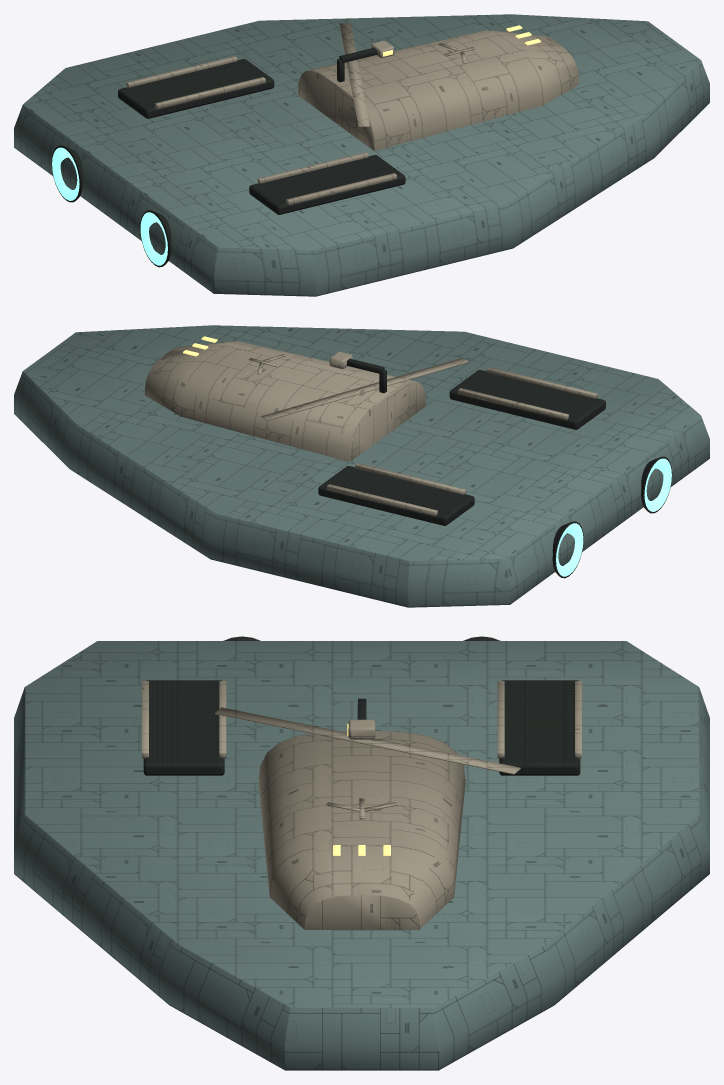
Rendered from towline_kit_lod1.glb.
3 renders of one model, top to bottom at view 1: azimuth 30°, elevation 25°; view 2: azimuth 150°, elevation 25°; view 3: azimuth 270°, elevation 25°, orthographic. The views are drawn at different scales.
Parts seen in each view (by area): view 1: LOD1_Hull, LOD1_Armor, LOD1_MechanicalDark, LOD1_HOOK_DRIVE_CORE, LOD1_Livery, LOD1_MOTION_TOWLINE_ACKNOWLEDGE_MechanicalDark; view 2: LOD1_Hull, LOD1_Armor, LOD1_MechanicalDark, LOD1_Livery, LOD1_HOOK_DRIVE_CORE, LOD1_MOTION_TOWLINE_ACKNOWLEDGE_MechanicalDark; view 3: LOD1_Hull, LOD1_Armor, LOD1_MechanicalDark, LOD1_Livery.
Part boxes in pixels (box(x1,y1,x2,y2)): LOD1_Hull: box(14, 14, 709, 296); LOD1_Armor: box(126, 30, 579, 205); LOD1_MechanicalDark: box(51, 59, 405, 267); LOD1_HOOK_DRIVE_CORE: box(52, 147, 167, 265); LOD1_Livery: box(339, 23, 475, 127); LOD1_MOTION_TOWLINE_ACKNOWLEDGE_MechanicalDark: box(337, 48, 376, 82); LOD1_Hull: box(14, 325, 709, 607); LOD1_Armor: box(144, 341, 597, 516); LOD1_MechanicalDark: box(318, 370, 672, 578); LOD1_Livery: box(248, 354, 468, 420); LOD1_HOOK_DRIVE_CORE: box(556, 458, 671, 576); LOD1_MOTION_TOWLINE_ACKNOWLEDGE_MechanicalDark: box(347, 359, 386, 393); LOD1_Hull: box(14, 641, 709, 1070); LOD1_Armor: box(142, 681, 581, 929); LOD1_MechanicalDark: box(143, 636, 580, 775); LOD1_Livery: box(215, 707, 520, 819).
Size of what is drawn, in the model's own units: 23.14 by 4.7 by 18.
Materials: 6 (4 with a texture image).
